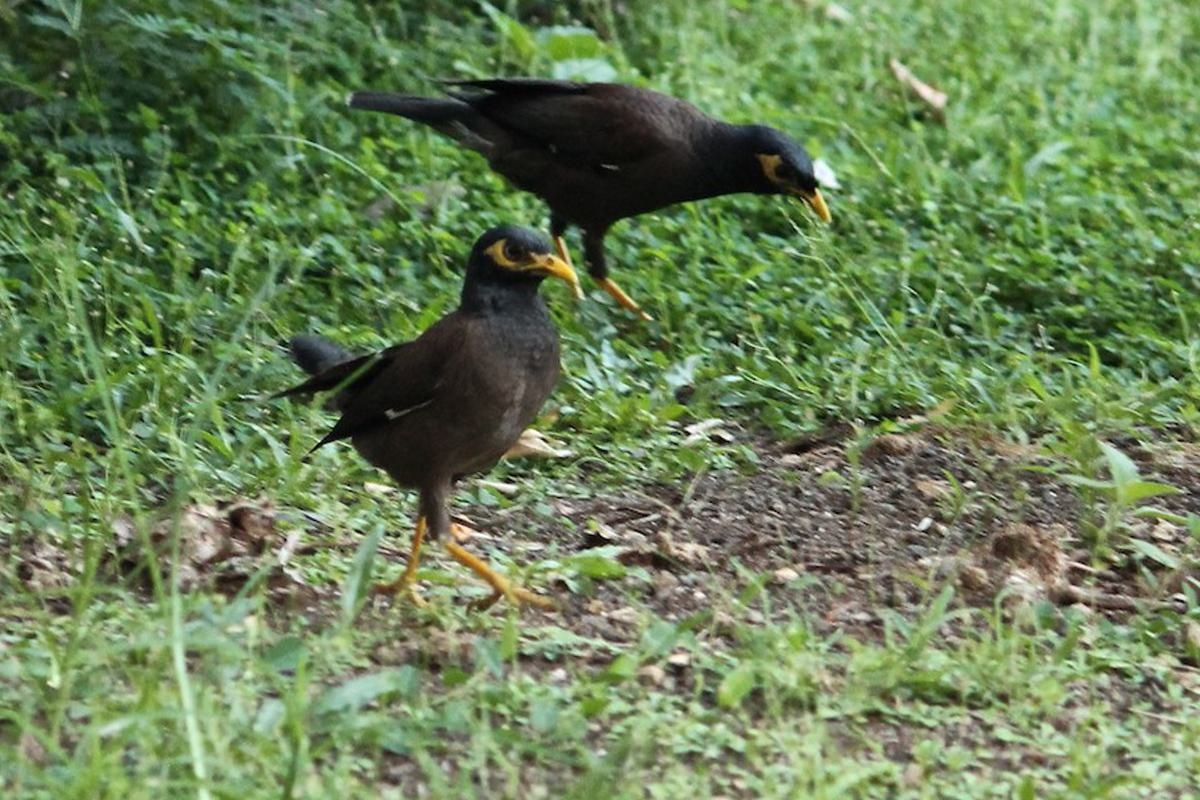myna: (286, 214, 583, 582), (444, 110, 865, 227)
